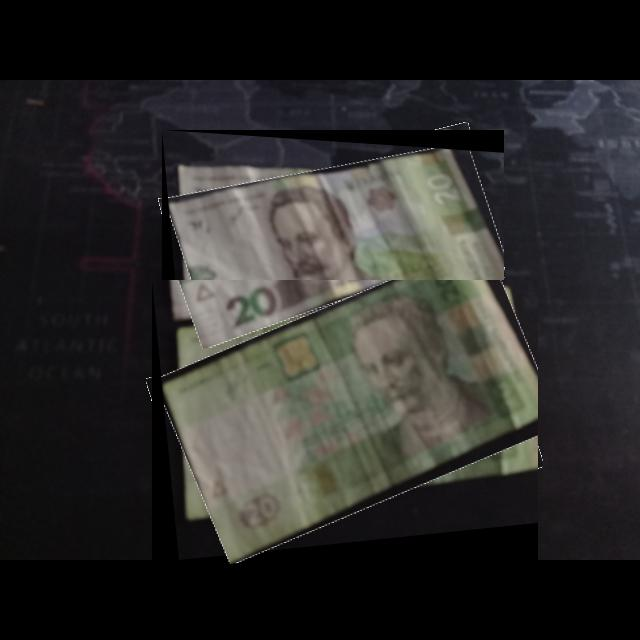20uah: (160, 280, 539, 566), (168, 145, 505, 354)
